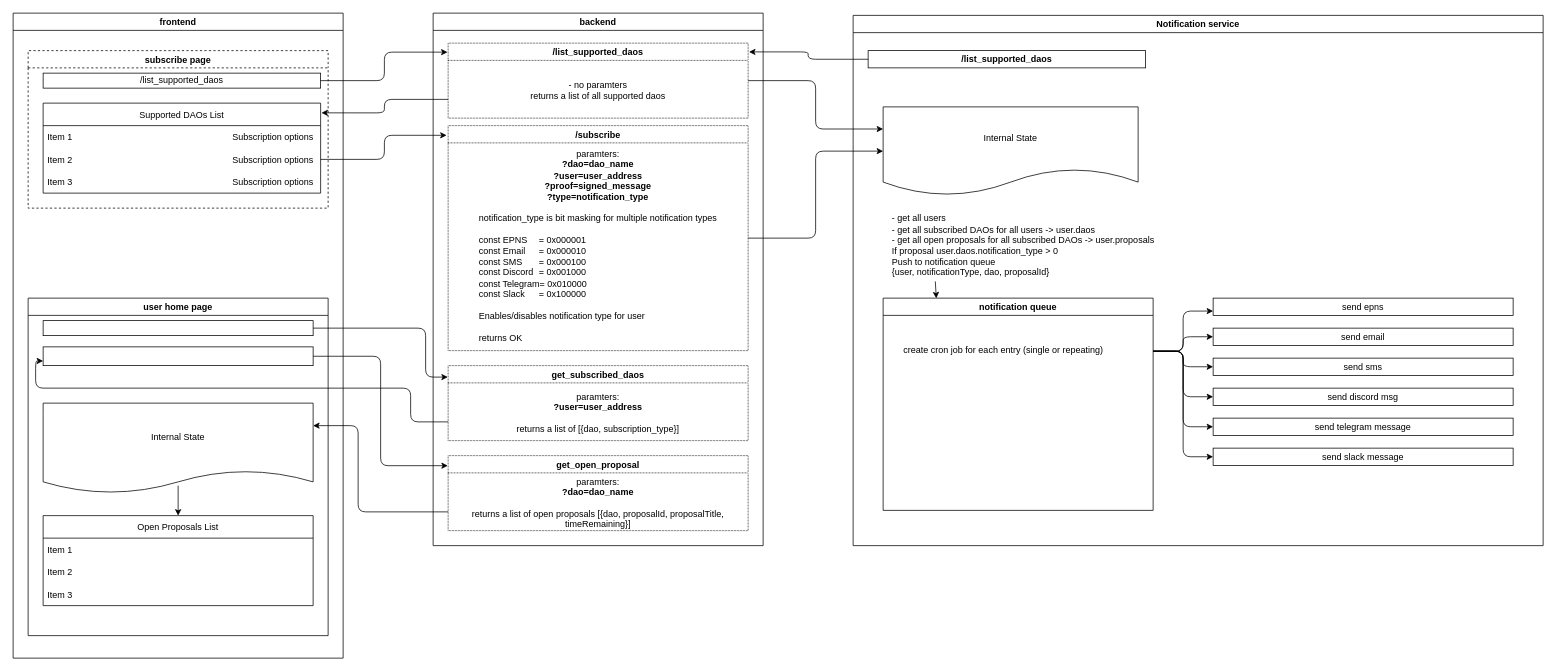
Image size: 1556x671. Some labels were removed from this diagram. The shapes that lost their labels are listed below. From the top down, each one's centre as x and y in pixels, then its label:
At pixel 177 328: "/ get_subscribed_daos".
At pixel 177 356: "/ get_open_proposal".
